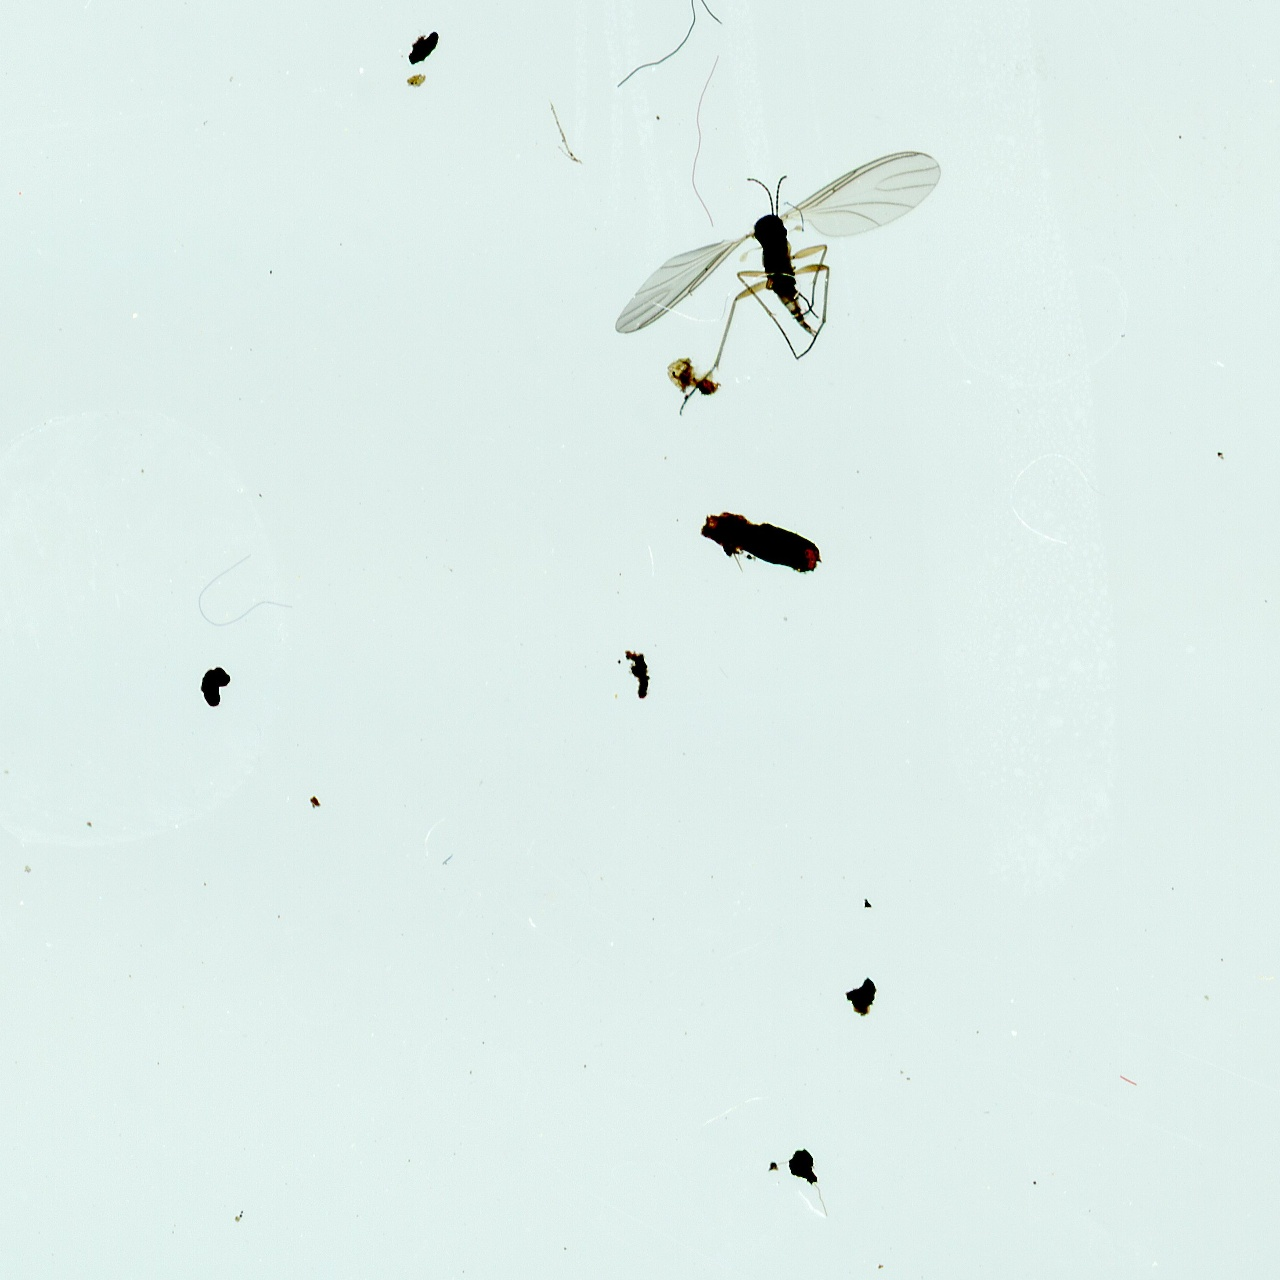arthropod: (572, 93, 999, 434)
